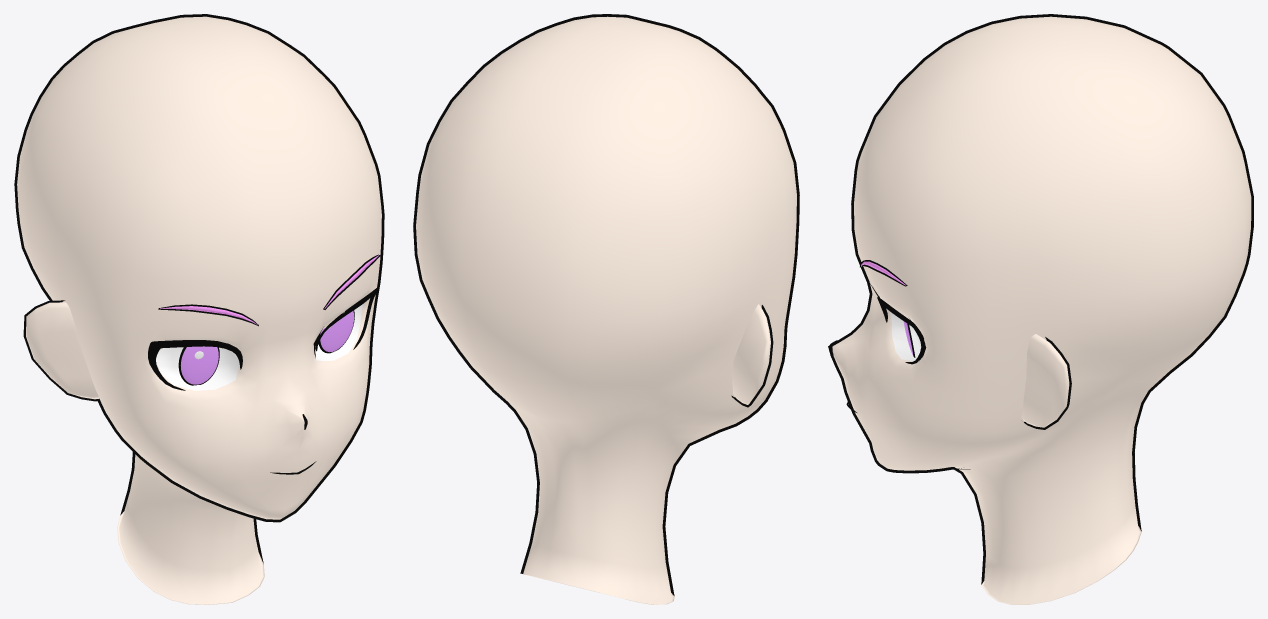
The model's file is teteglb.glb.
The picture shows the model from 3 angles, left to right: view 1: azimuth 30°, elevation 25°; view 2: azimuth 150°, elevation 25°; view 3: azimuth 270°, elevation 25°; orthographic projection. The views are drawn at different scales.
Parts seen in each view (by area): view 1: Head, ears, Eye, Cube.001, Cube.002; view 2: Head, ears; view 3: Head, ears.
Boxes of the visible parts, left/top/right/bottom form: Head: left=14, top=14, right=384, bottom=604; ears: left=23, top=300, right=100, bottom=401; Eye: left=178, top=310, right=354, bottom=385; Cube.001: left=148, top=286, right=379, bottom=390; Cube.002: left=158, top=254, right=380, bottom=326; Head: left=413, top=14, right=799, bottom=604; ears: left=731, top=304, right=773, bottom=407; Head: left=828, top=14, right=1253, bottom=604; ears: left=1021, top=334, right=1071, bottom=429.
Size of the model in its own units: 0.7142 by 1.11 by 0.7749.
